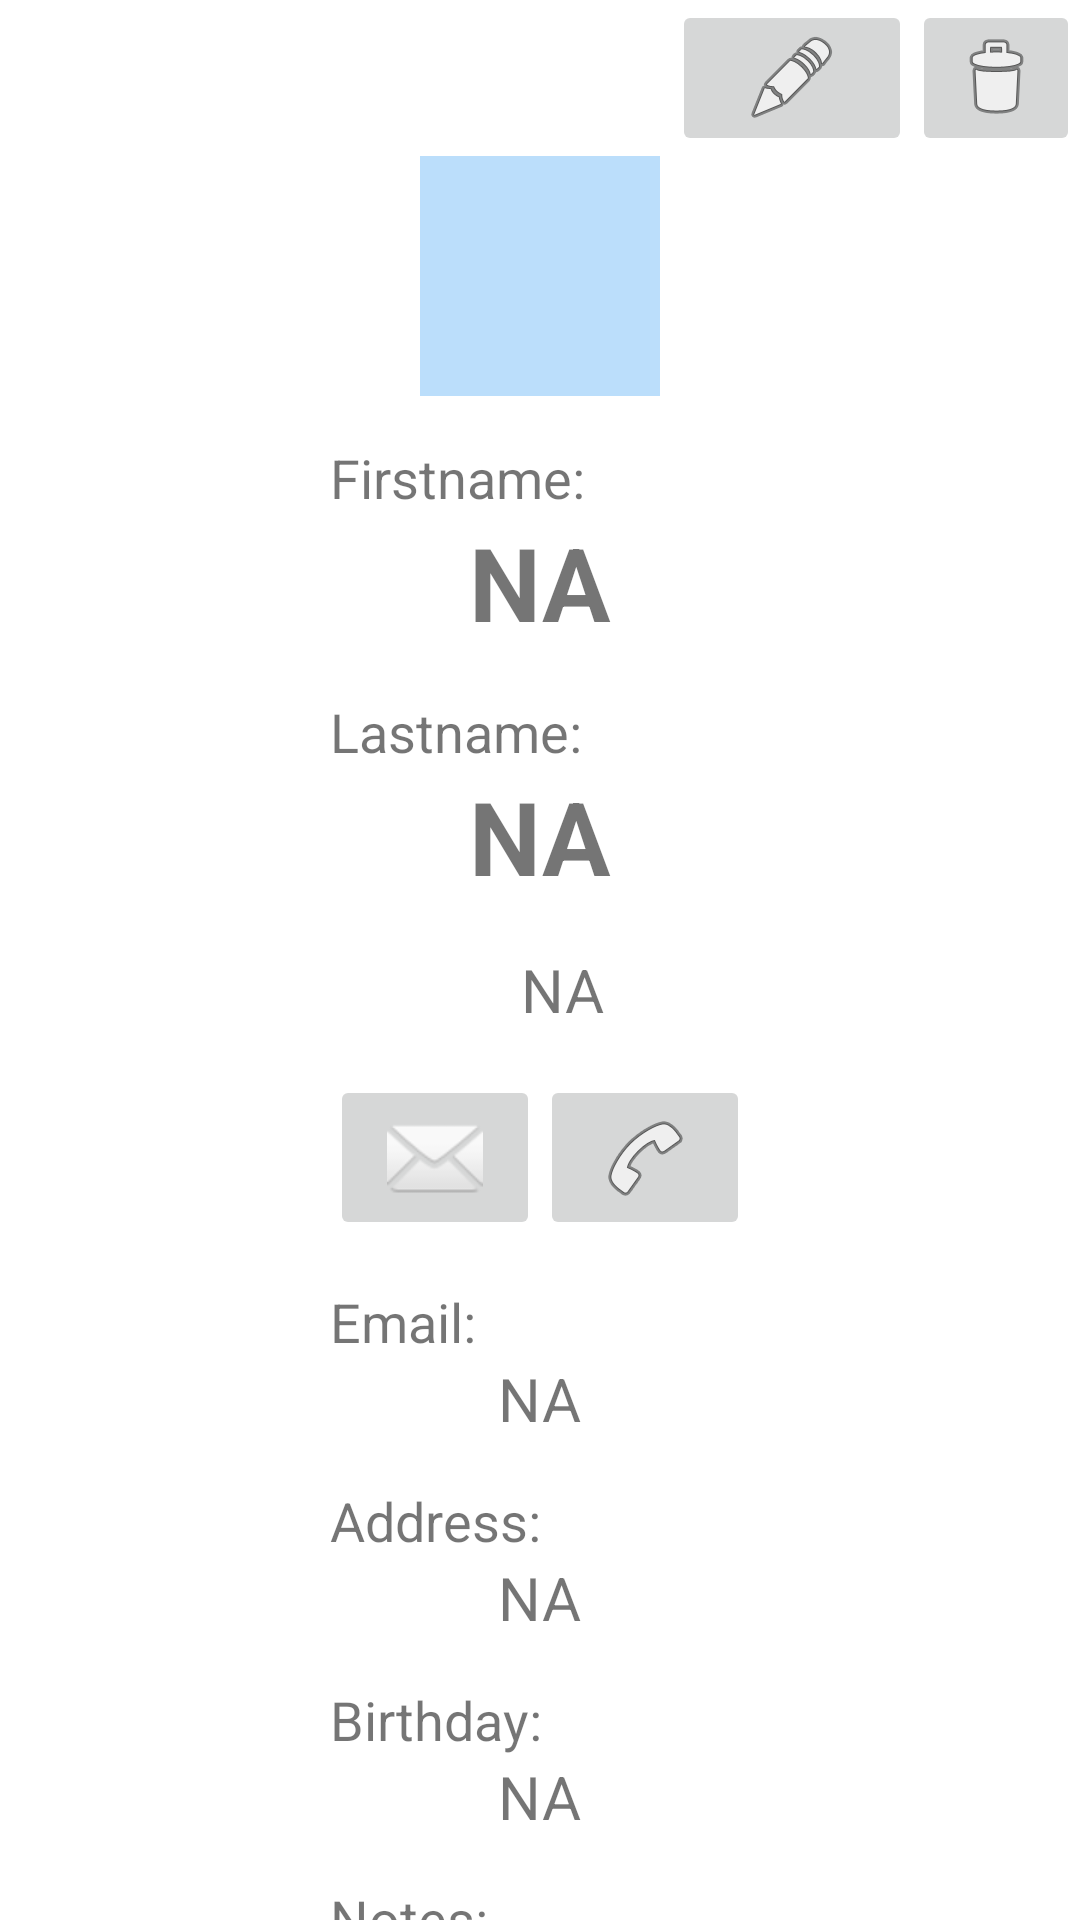

Point at icon controls on the screen. Image size 1080w x 1920h, points as (x,y).
call contact: (645,1157)
delete contact: (996,78)
edit contact: (792,78)
see contact message: (435,1157)
